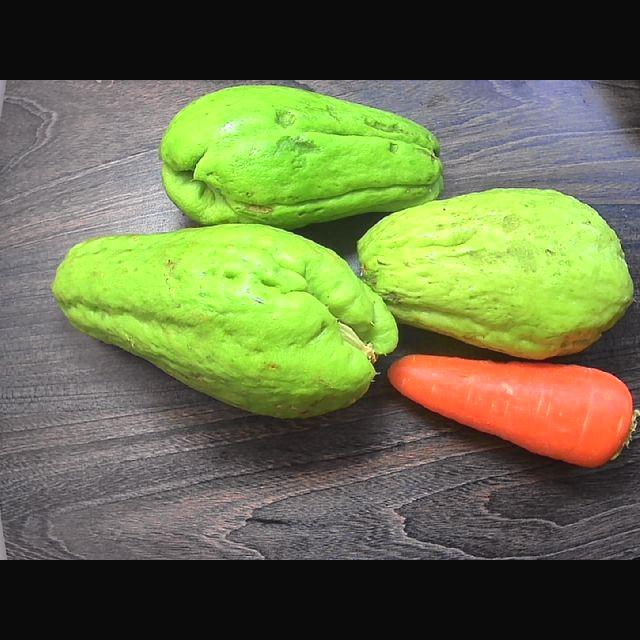chayote: (52, 224, 397, 418), (358, 189, 632, 359), (160, 85, 443, 228)
zanahoria: (387, 354, 638, 467)
